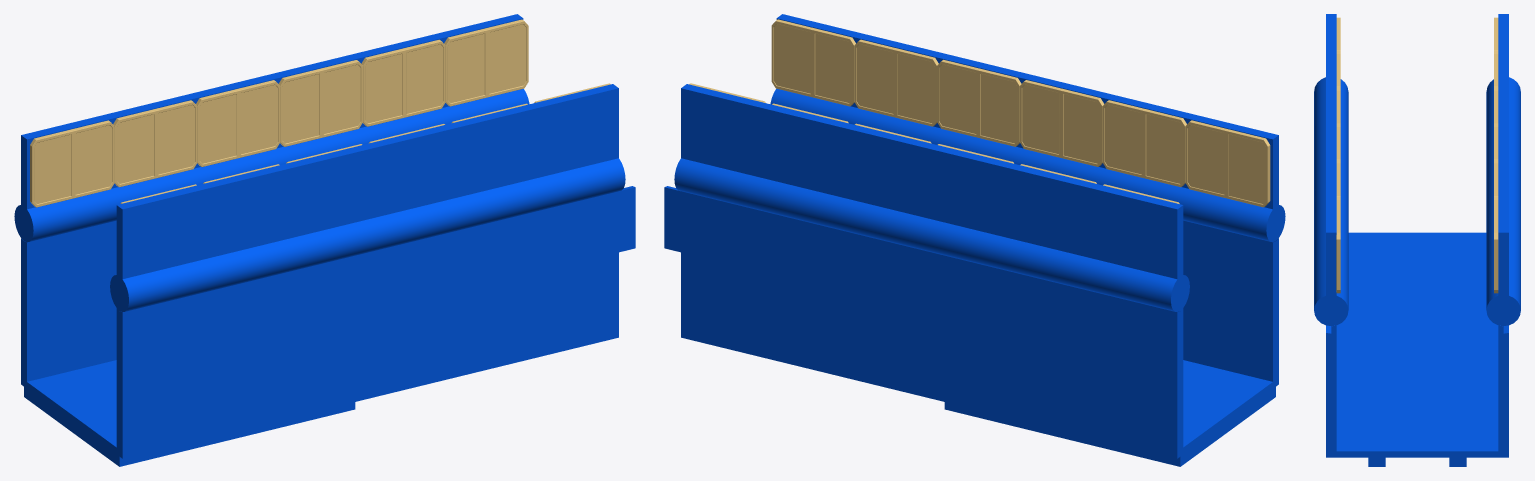
The model's file is Vagon_02.fbx.
3 views of the same model, side by side, from view 1: azimuth 30°, elevation 25°; view 2: azimuth 150°, elevation 25°; view 3: azimuth 270°, elevation 25° (orthographic). The views are drawn at different scales.
Parts seen in each view (by area): view 1: Vagon_02, Compuerta_Vagon_R, Tren_Wallrun_L, Compuerta_Vagon_L, Tren_Wallrun_R; view 2: Vagon_02, Compuerta_Vagon_L, Tren_Wallrun_R, Compuerta_Vagon_R, Tren_Wallrun_L; view 3: Vagon_02, Compuerta_Vagon_R, Compuerta_Vagon_L, Tren_Wallrun_L, Tren_Wallrun_R.
Boxes of the visible parts, box(x1,y1,x2,y2) form: Vagon_02: box(21, 186, 635, 466); Compuerta_Vagon_R: box(110, 84, 625, 312); Tren_Wallrun_L: box(30, 19, 528, 207); Compuerta_Vagon_L: box(14, 14, 529, 242); Tren_Wallrun_R: box(120, 83, 610, 203); Vagon_02: box(664, 186, 1278, 466); Compuerta_Vagon_L: box(674, 84, 1189, 312); Tren_Wallrun_R: box(771, 19, 1270, 207); Compuerta_Vagon_R: box(770, 14, 1285, 242); Tren_Wallrun_L: box(689, 83, 1179, 203); Vagon_02: box(1326, 232, 1508, 466); Compuerta_Vagon_R: box(1314, 14, 1348, 326); Compuerta_Vagon_L: box(1486, 14, 1520, 326); Tren_Wallrun_L: box(1494, 17, 1498, 293); Tren_Wallrun_R: box(1336, 17, 1340, 293).
Size of the model in its own units: 3100 by 1500 by 1200.
